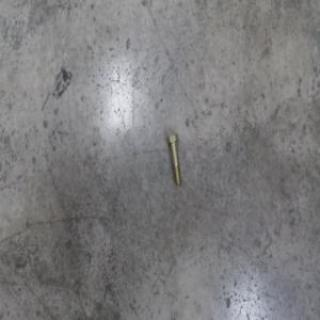Bolttrack_idkeyframe: (165, 132, 180, 185)
